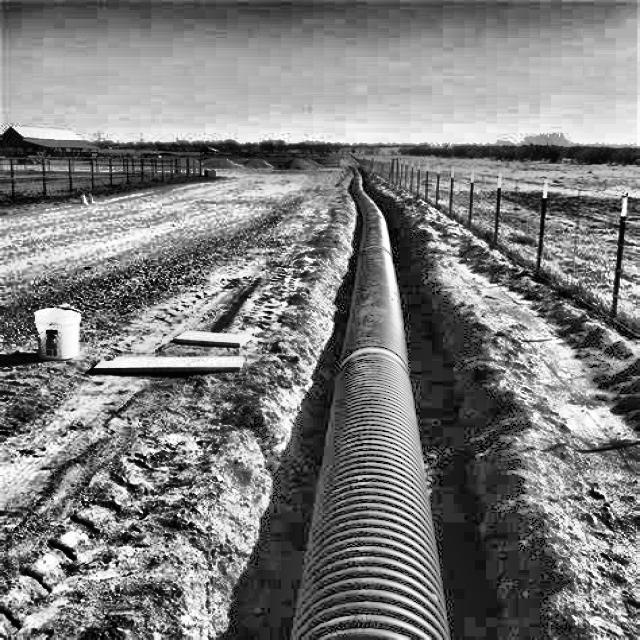drainage: (327, 197, 542, 640)
